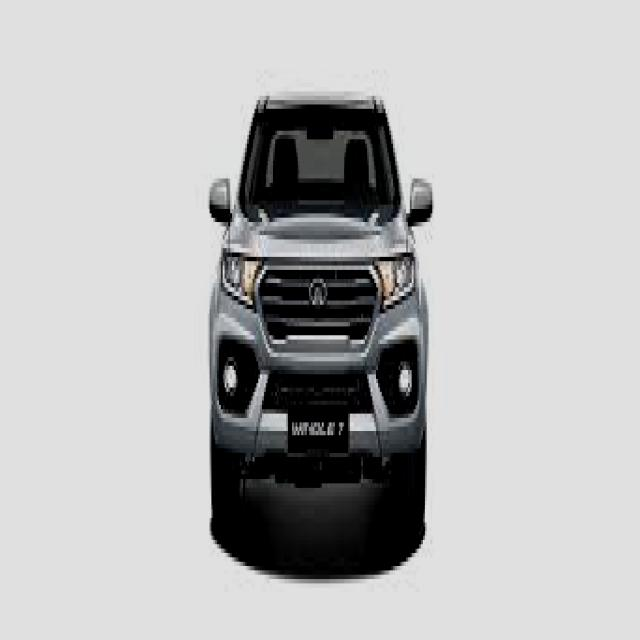CMT: (209, 88, 431, 547)
